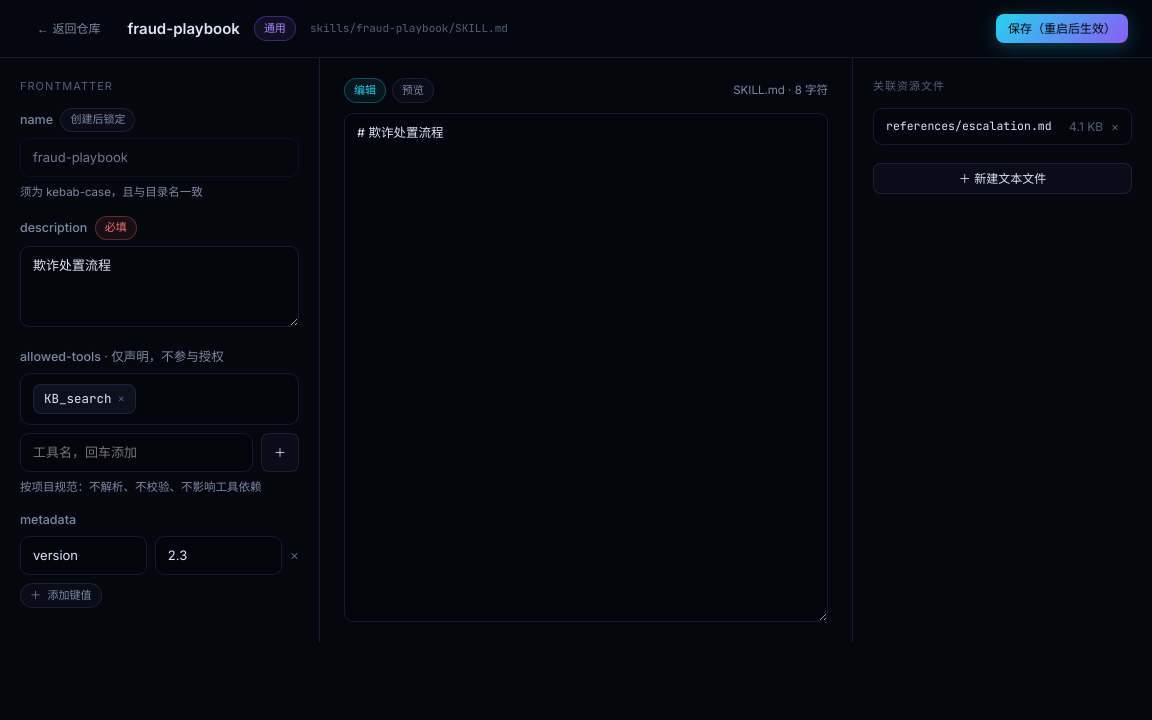
Test case: SkillEditPage › rejects unsafe resource paths
Click the button "＋ 新建文本文件": coordinates (1002, 179) [873, 163, 1132, 194]
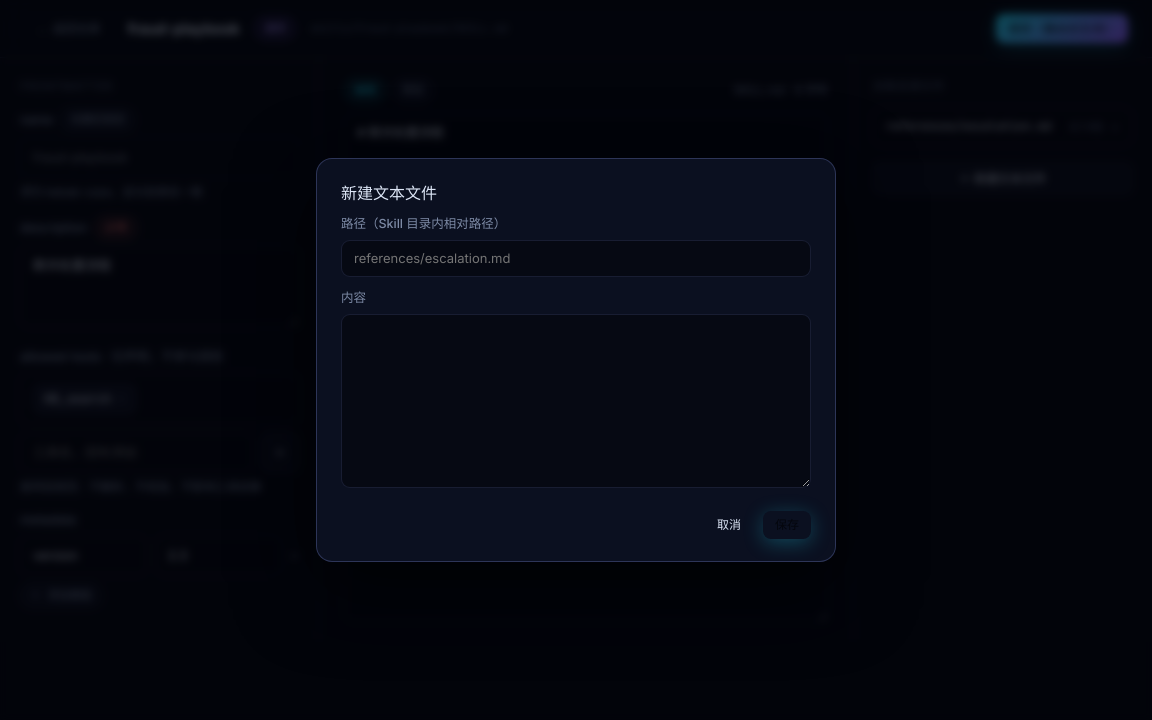
In the field named "资源路径": coordinates (576, 259) [341, 240, 811, 277], type "../escape.md"
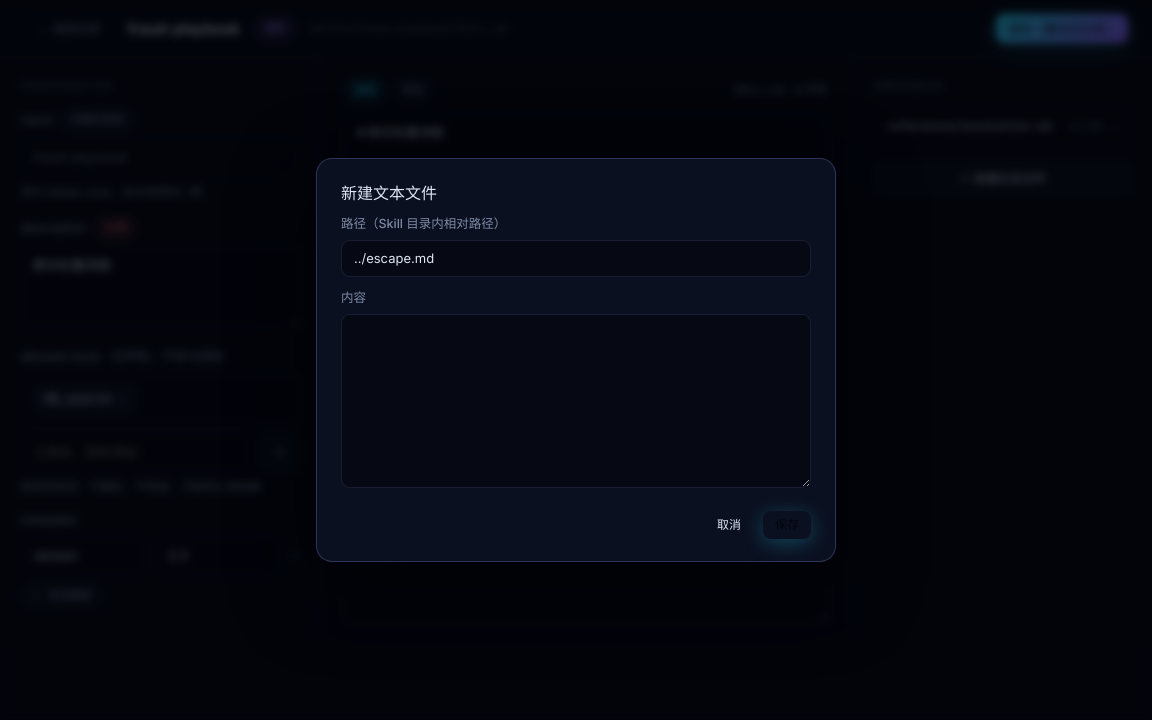
Click the button "保存": coordinates (787, 525) [763, 511, 811, 539]
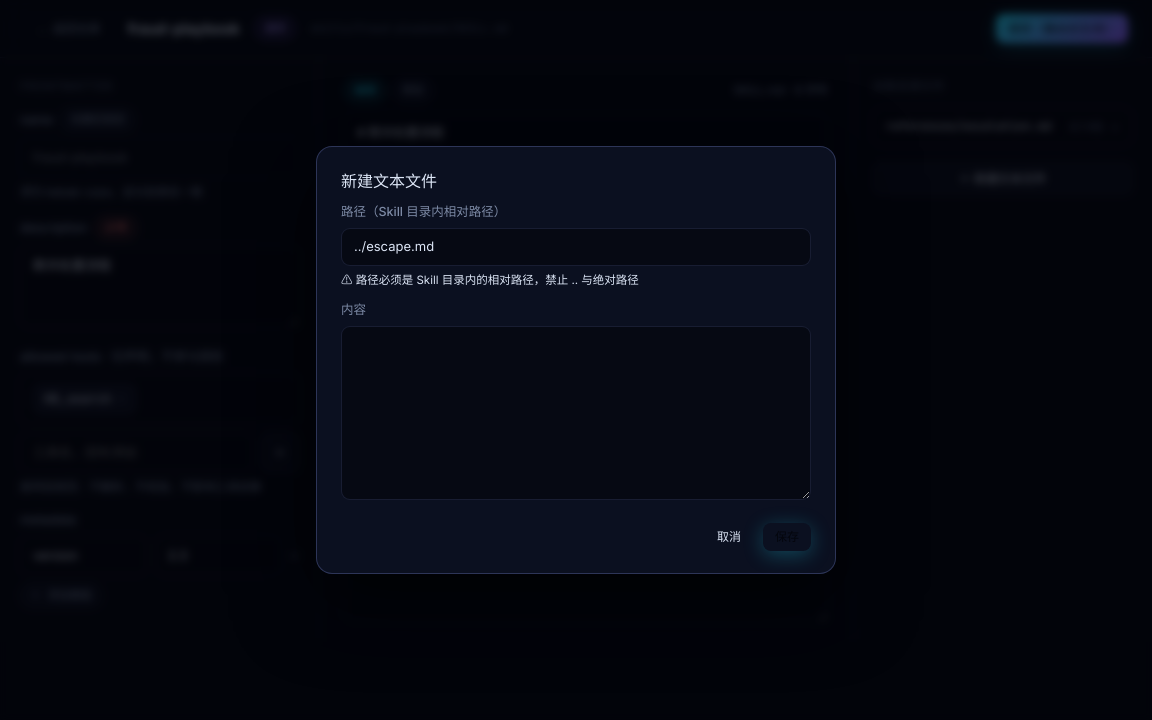
Expected: the dialog shows "禁止", [341, 273, 639, 287]
